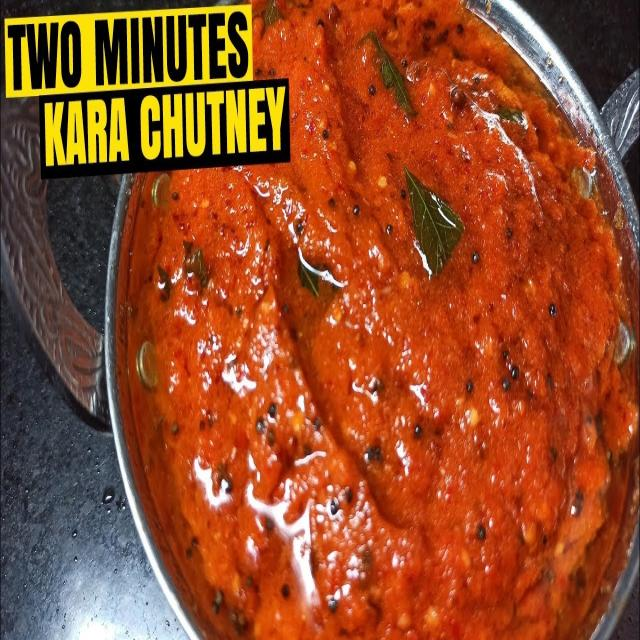kaara chutney: (140, 3, 640, 640)
